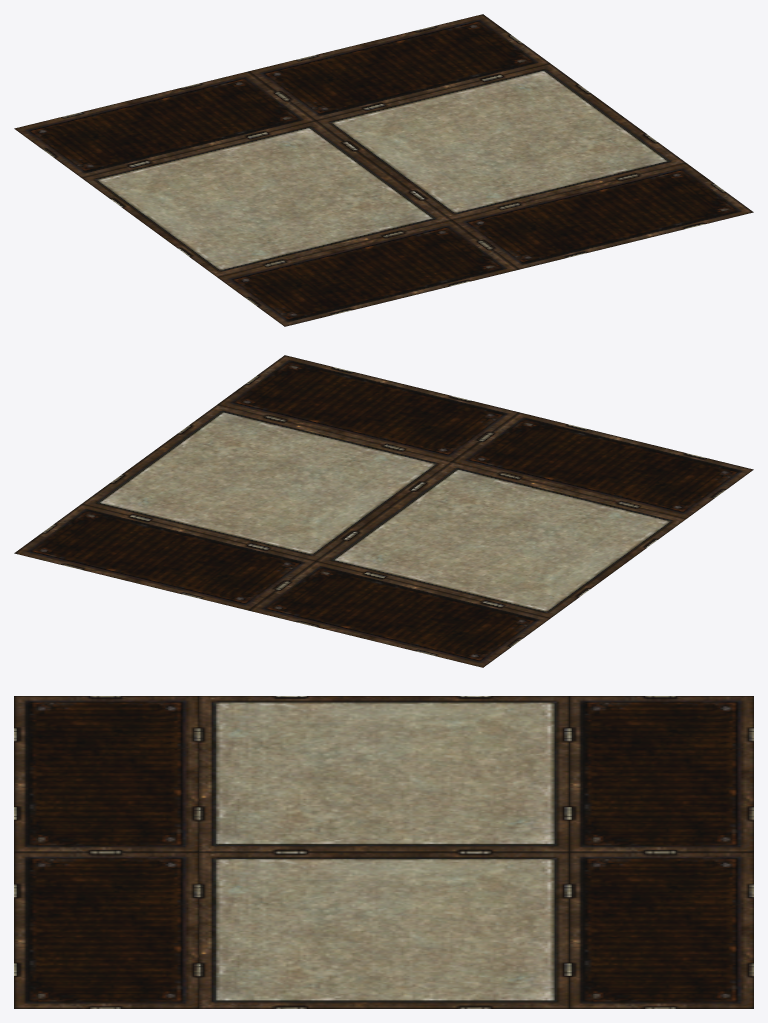
Rendered from metal_ribbed.dae.
3 views of the same model, one above another, from view 1: azimuth 30°, elevation 25°; view 2: azimuth 150°, elevation 25°; view 3: azimuth 270°, elevation 25° (orthographic). The views are drawn at different scales.
Visible parts, largest first — view 1: pPlane33; view 2: pPlane33; view 3: pPlane33.
Boxes of the visible parts, box(x1,y1,x2,y2) form: pPlane33: box(14, 14, 753, 326); pPlane33: box(14, 355, 753, 667); pPlane33: box(14, 696, 753, 1008).
Bounding box in the file's own units: 4 × 0 × 4.
